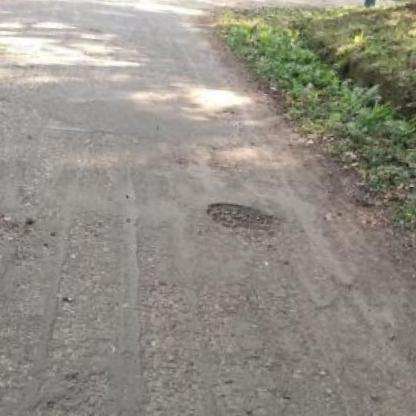pothole: (205, 196, 288, 250), (0, 204, 26, 243)
